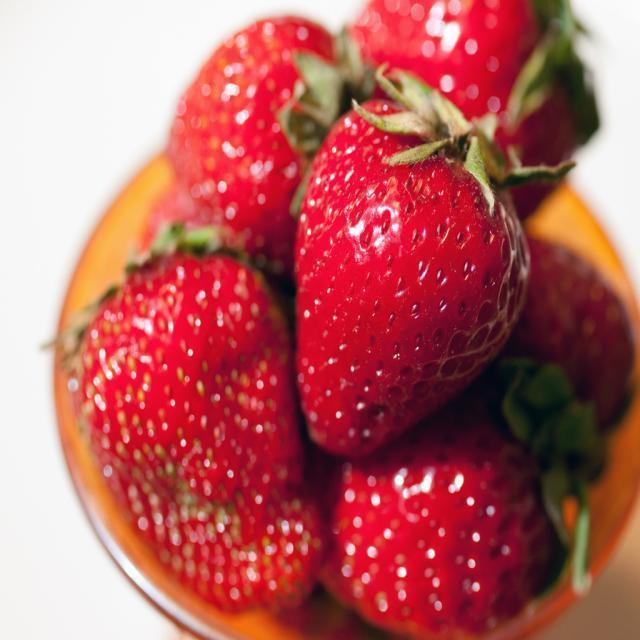Strawberry: (292, 61, 576, 458), (54, 215, 326, 617), (346, 0, 590, 219), (317, 414, 555, 638), (166, 14, 360, 278), (495, 233, 639, 446)
